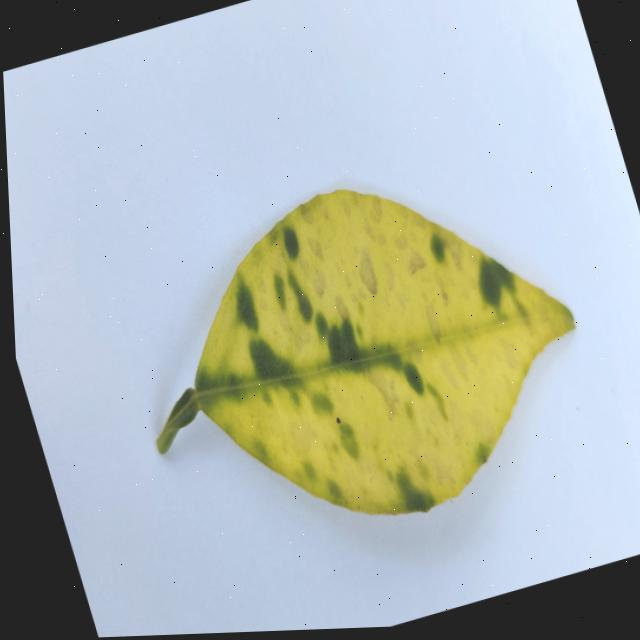greening: (157, 188, 573, 513)
